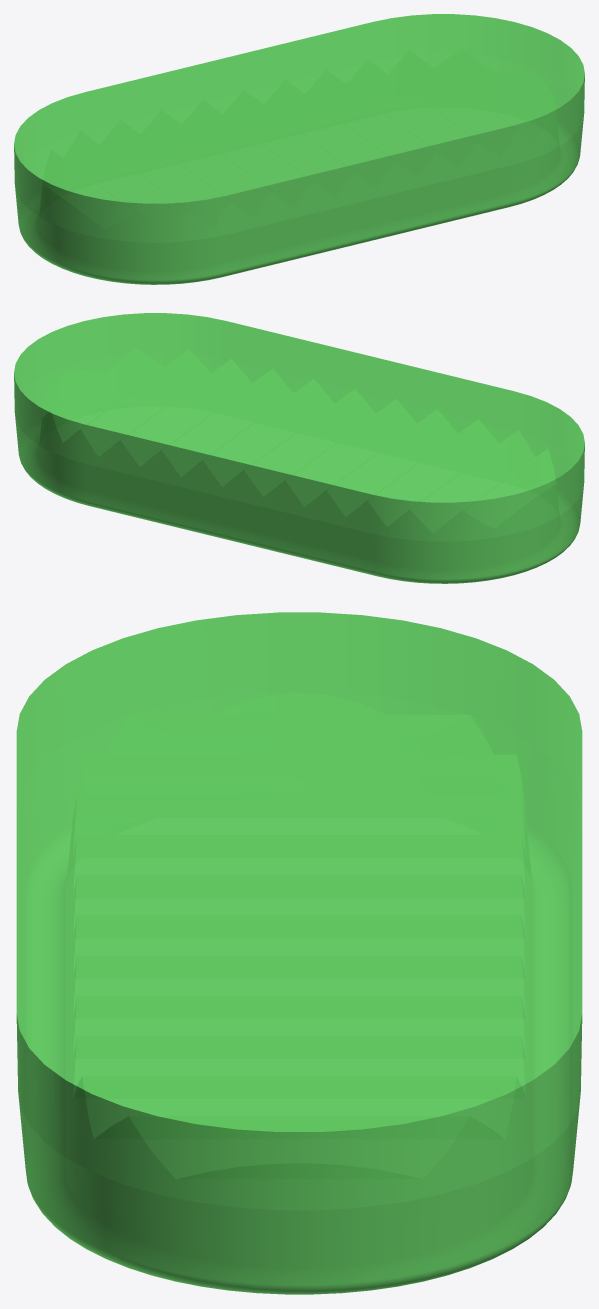
The model's file is Insert 0.75x1.625' Oval (PI-11234-OGT).fbx.
3 views of the same model, one above another, from view 1: azimuth 30°, elevation 25°; view 2: azimuth 150°, elevation 25°; view 3: azimuth 270°, elevation 25° (orthographic). The views are drawn at different scales.
Parts seen in each view (by area): view 1: Insert 0.75x1.625' Oval (PI-11234-OGT); view 2: Insert 0.75x1.625' Oval (PI-11234-OGT); view 3: Insert 0.75x1.625' Oval (PI-11234-OGT).
Part boxes in pixels (x1,y1,x2,y2): Insert 0.75x1.625' Oval (PI-11234-OGT): (14, 14, 584, 284); Insert 0.75x1.625' Oval (PI-11234-OGT): (14, 313, 584, 583); Insert 0.75x1.625' Oval (PI-11234-OGT): (16, 612, 582, 1294).
Size of the model in its own units: 4.11 by 0.635 by 1.89.
